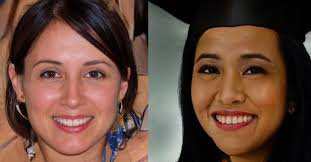noMask: (4, 2, 141, 154), (177, 13, 296, 156)
